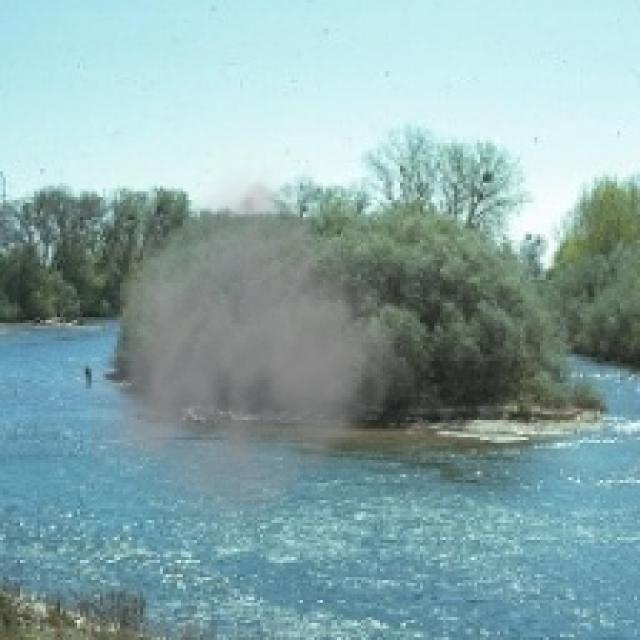smoke: (92, 163, 434, 548)
